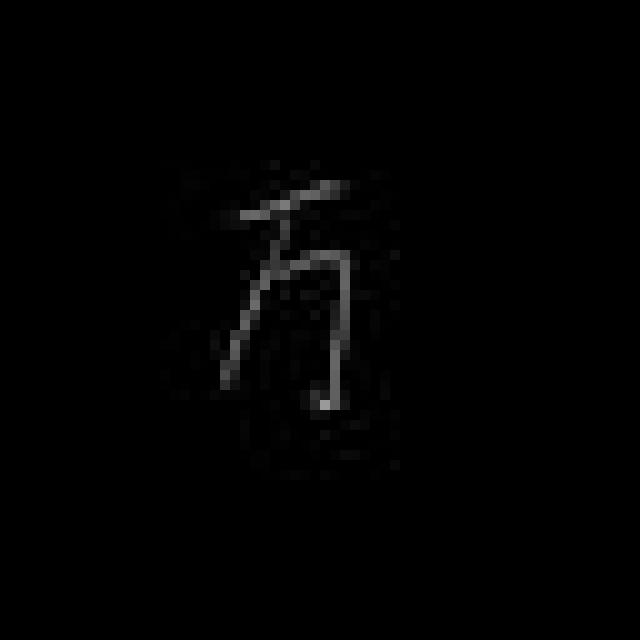10000 -a ten thousand-: (198, 165, 365, 422)
